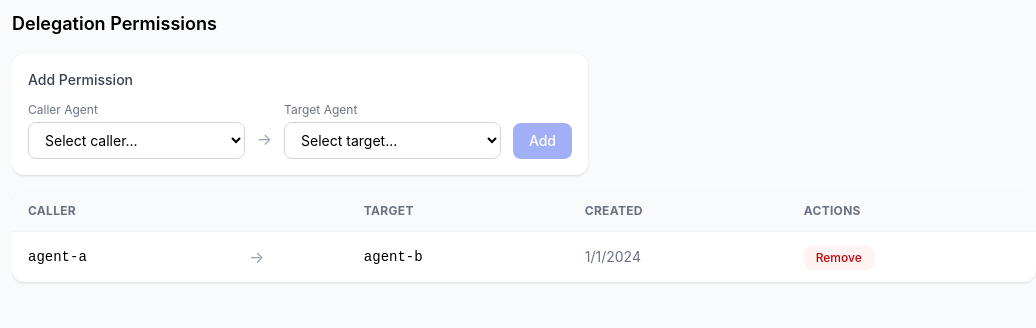
DelegationPermissions › shows cycle warning when selection would create a cycle
The image size is (1036, 328).
Expected: the text "agent-a" is shown, x1=12 y1=232 x2=233 y2=282
# Try to add agent-b → agent-a (would create cycle)
Select "Agent B (agent-b)" in the dropdown named "Caller agent". click: (136, 140)
box: x1=28 y1=122 x2=245 y2=159
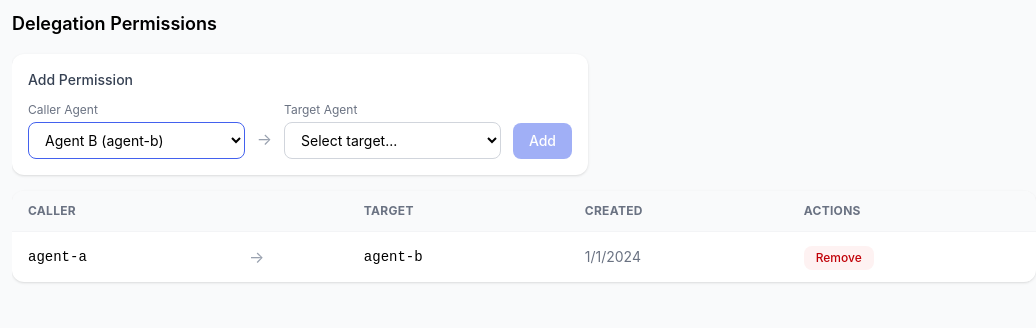
Select "Agent A (agent-a)" in the dropdown named "Target agent". click: (392, 140)
box: x1=284 y1=122 x2=501 y2=159
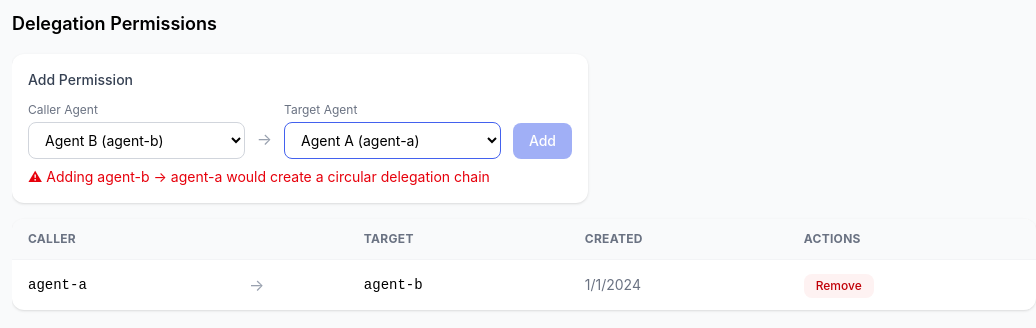
Expected: the button "Add" is disabled, x1=513 y1=123 x2=572 y2=159
Now the text "⚠ Adding agent-b → agent-a would create a circular delegation chain" is shown, box x1=28 y1=168 x2=490 y2=185
